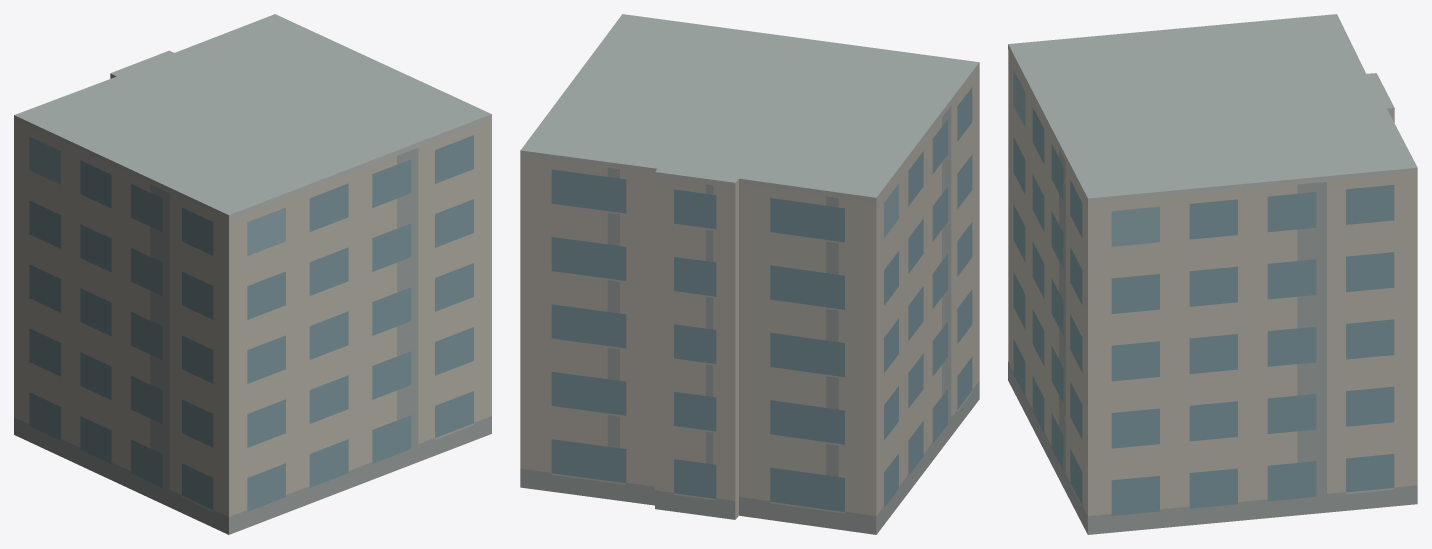
File: survey-upis-32698336.glb
3 views of the same model, side by side, from view 1: azimuth 30°, elevation 25°; view 2: azimuth 150°, elevation 25°; view 3: azimuth 270°, elevation 25° (orthographic). The views are drawn at different scales.
Parts seen in each view (by area): view 1: survey-upis-32698336.tmp; view 2: survey-upis-32698336.tmp; view 3: survey-upis-32698336.tmp.
Part boxes in pixels (x1,y1,x2,y2): survey-upis-32698336.tmp: (14, 14, 491, 534); survey-upis-32698336.tmp: (520, 14, 979, 534); survey-upis-32698336.tmp: (1008, 14, 1417, 534).
Bounding box in the file's own units: 17.24 × 14.65 × 16.18.
